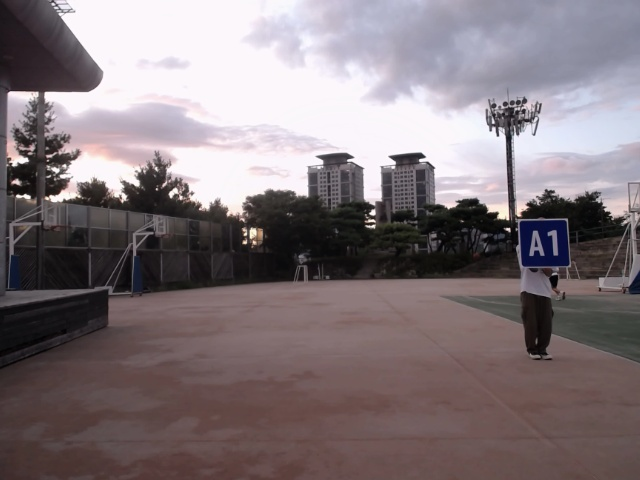delivery_a1: (519, 219, 571, 268)
